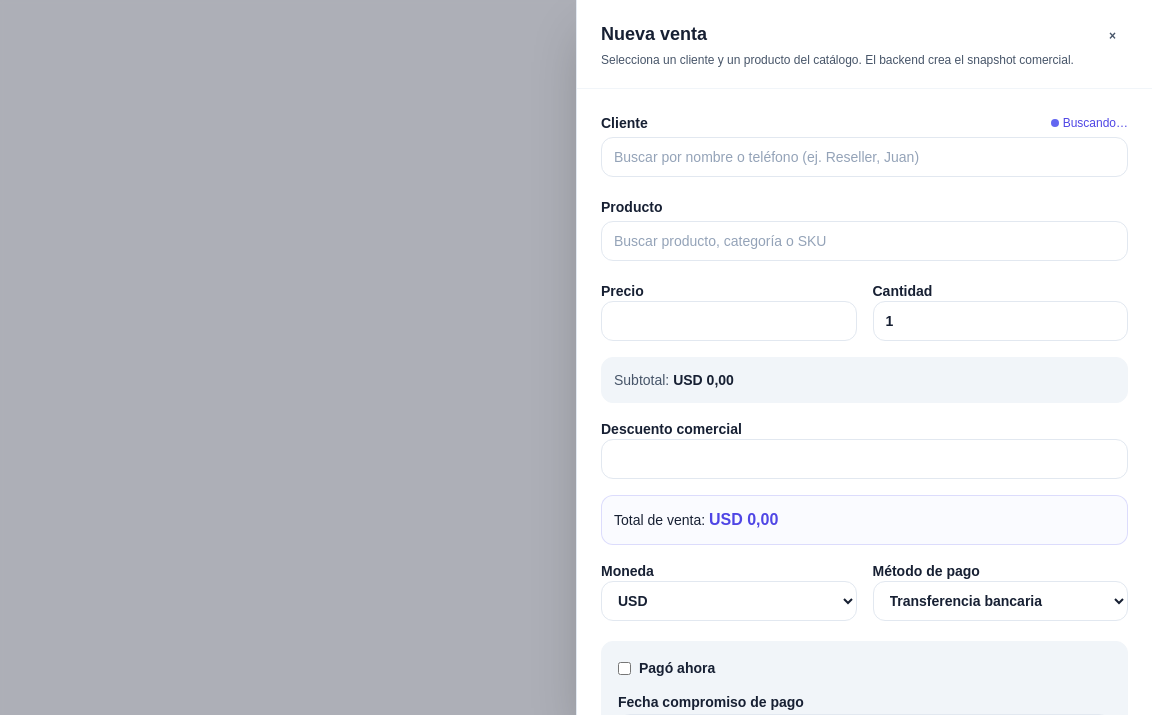
NewSaleDrawer catalog discovery › keeps a product without price visible but disabled for users without override permission
The width and height of the screenshot is (1152, 715).
Type "SIN PRECIO" into the dropdown labelled "producto" at (864, 241), box x1=601 y1=221 x2=1128 y2=261
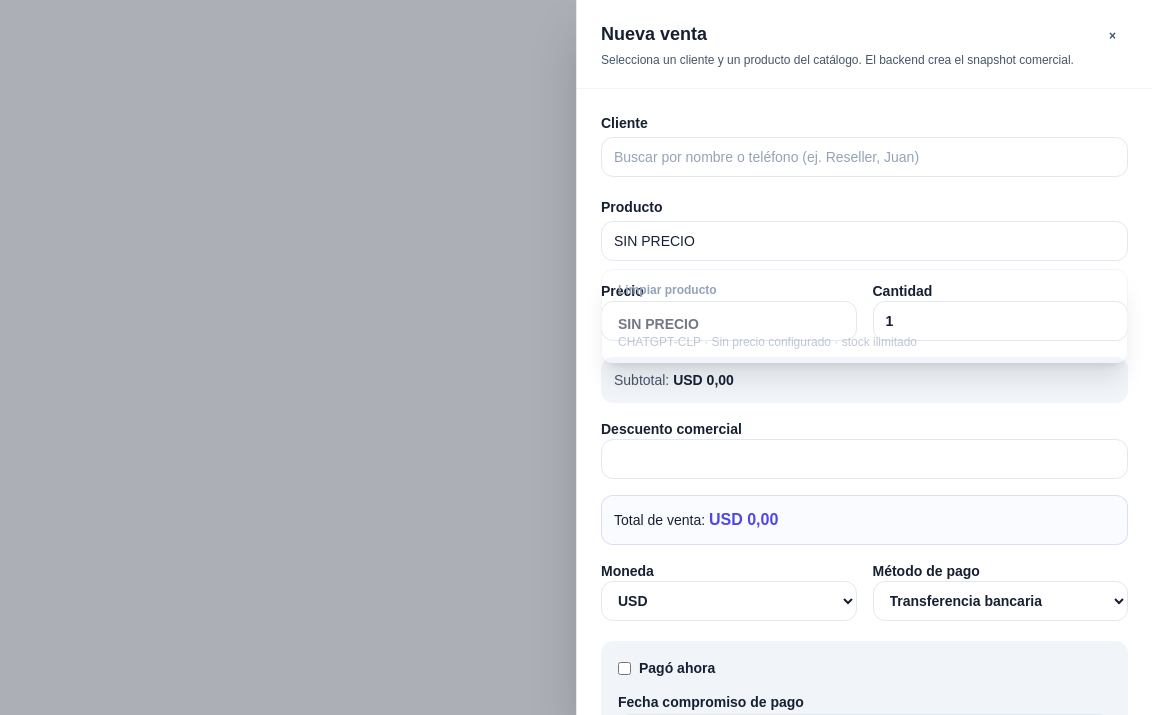
Expected: the option "SIN PRECIO" is disabled, x1=606 y1=306 x2=1123 y2=358
Expected: the option "SIN PRECIO" shows "Sin precio configurado", x1=606 y1=306 x2=1123 y2=358
